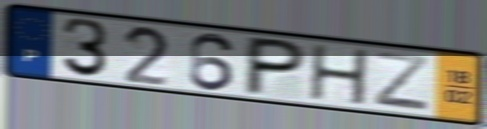2: (121, 24, 175, 87)
3: (58, 17, 110, 80)
6: (187, 30, 237, 93)
H: (305, 43, 371, 108)
P: (240, 34, 311, 97)
Z: (372, 49, 433, 114)
